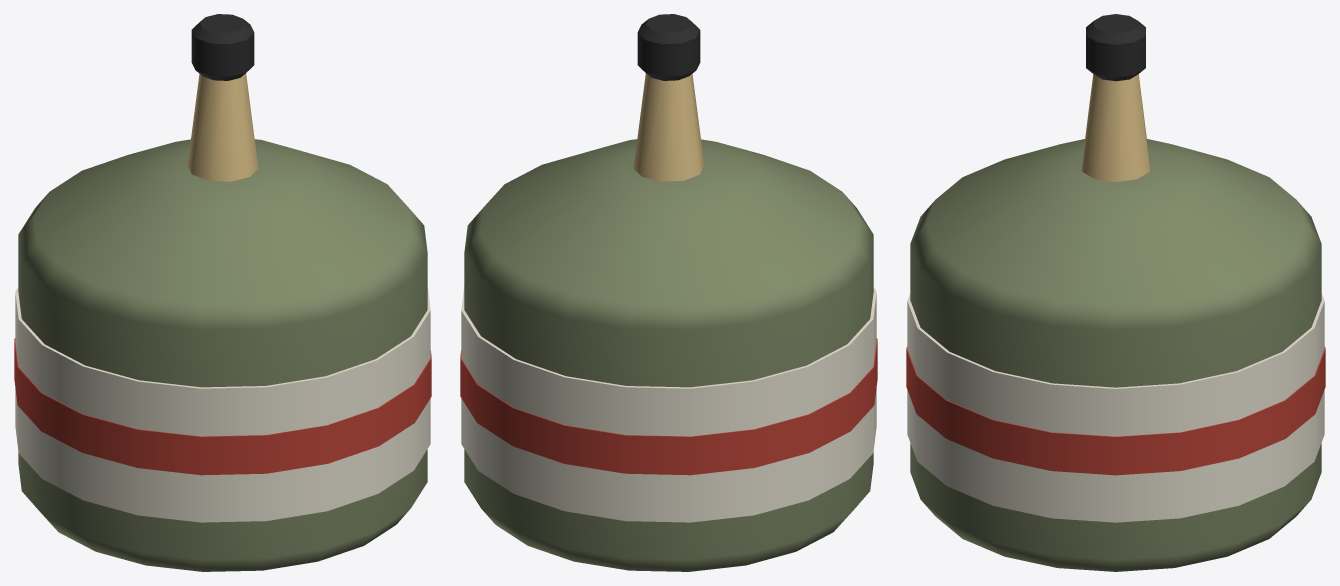
The model's file is gun_oil.glb.
3 views of the same model, side by side, from view 1: azimuth 30°, elevation 25°; view 2: azimuth 150°, elevation 25°; view 3: azimuth 270°, elevation 25° (orthographic).
Visible parts, largest first — view 1: body; view 2: body; view 3: body.
Part boxes in pixels (<box>): body: <box>14,14,431,571</box>; body: <box>460,14,877,571</box>; body: <box>906,14,1325,571</box>.
Size of the model in its own units: 0.0736 by 0.0906 by 0.0736.
